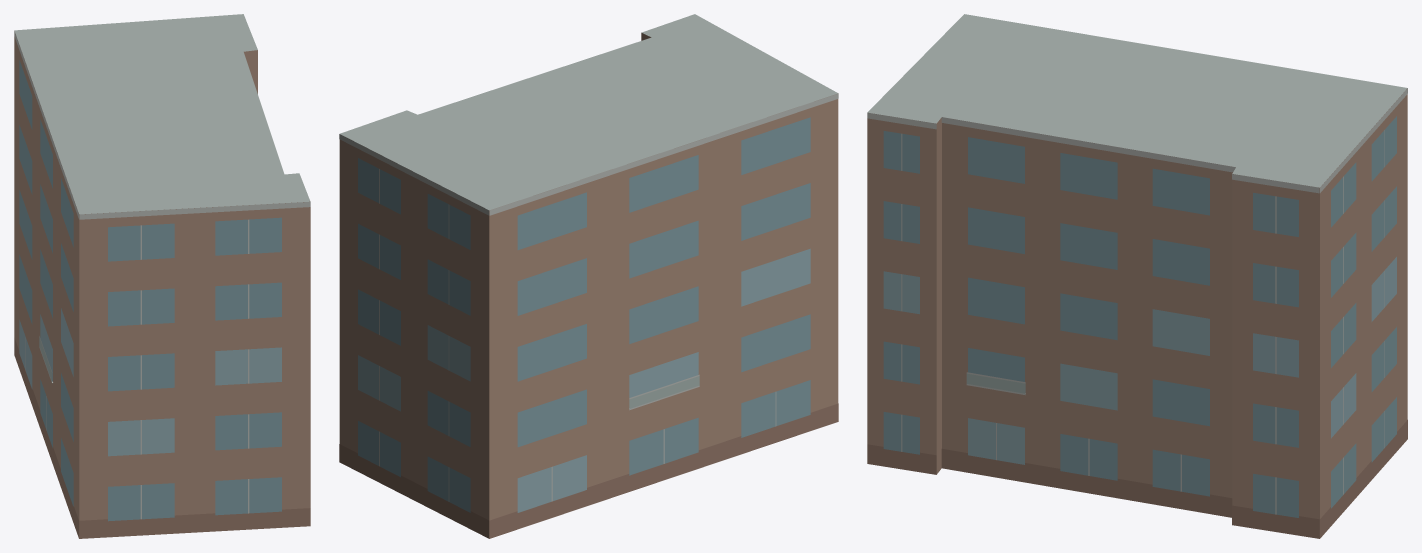
Rendered from survey-upis-32574803.glb.
The picture shows the model from 3 angles, left to right: view 1: azimuth 30°, elevation 25°; view 2: azimuth 150°, elevation 25°; view 3: azimuth 270°, elevation 25°; orthographic projection. The views are drawn at different scales.
Parts seen in each view (by area): view 1: survey-upis-32574803.tmp; view 2: survey-upis-32574803.tmp; view 3: survey-upis-32574803.tmp.
Part boxes in pixels (x1,y1,x2,y2): survey-upis-32574803.tmp: (14,14,310,538); survey-upis-32574803.tmp: (339,14,838,538); survey-upis-32574803.tmp: (867,14,1407,538).
Bounding box in the file's own units: 15.7 × 14.8 × 20.65.
